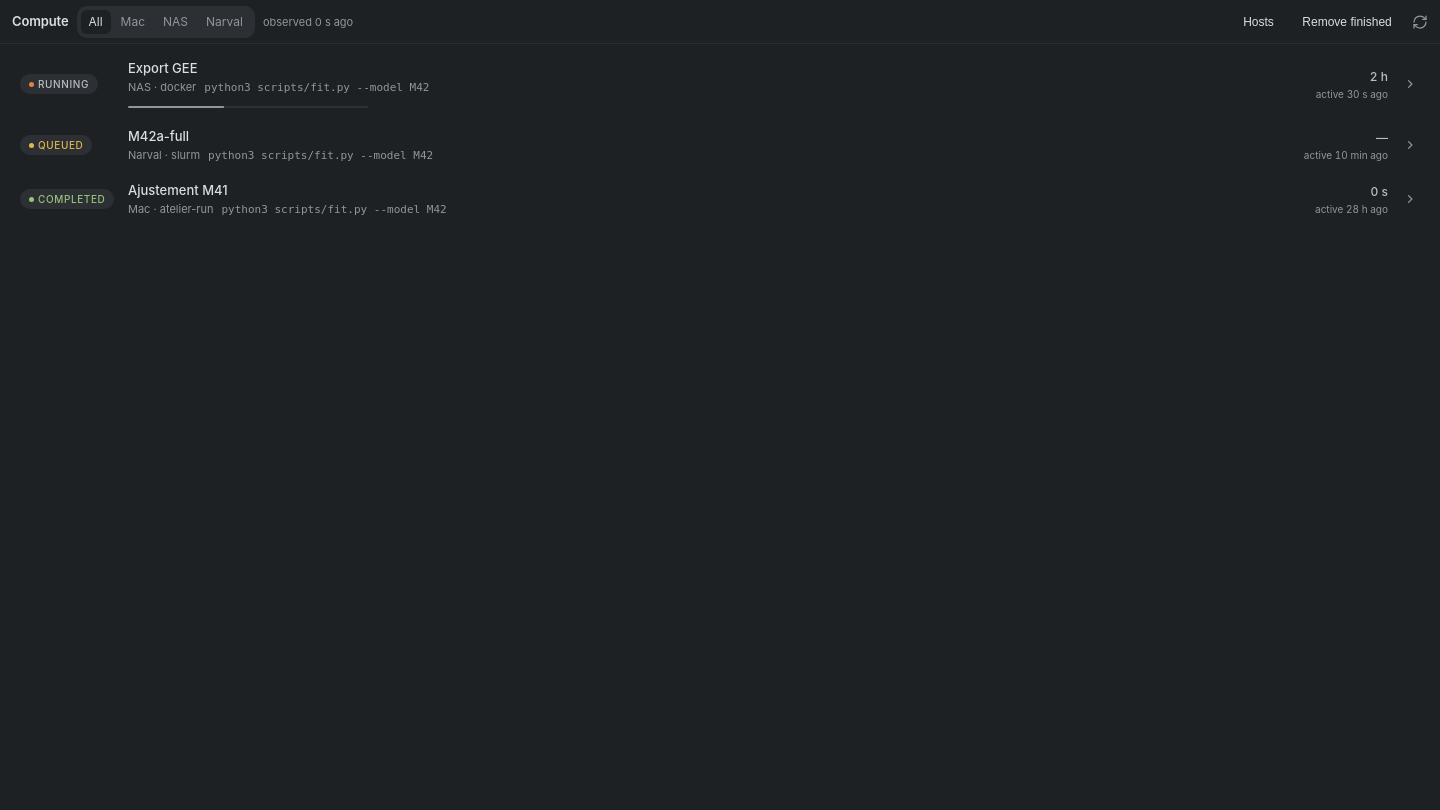
Scenario: CalculsSurface › l'onglet Log demande computeReadLog 400 lignes et affiche le journal
Click the button with class "calculs-run-head" that starts with "running" at (59, 84), box [8, 52, 1432, 116]
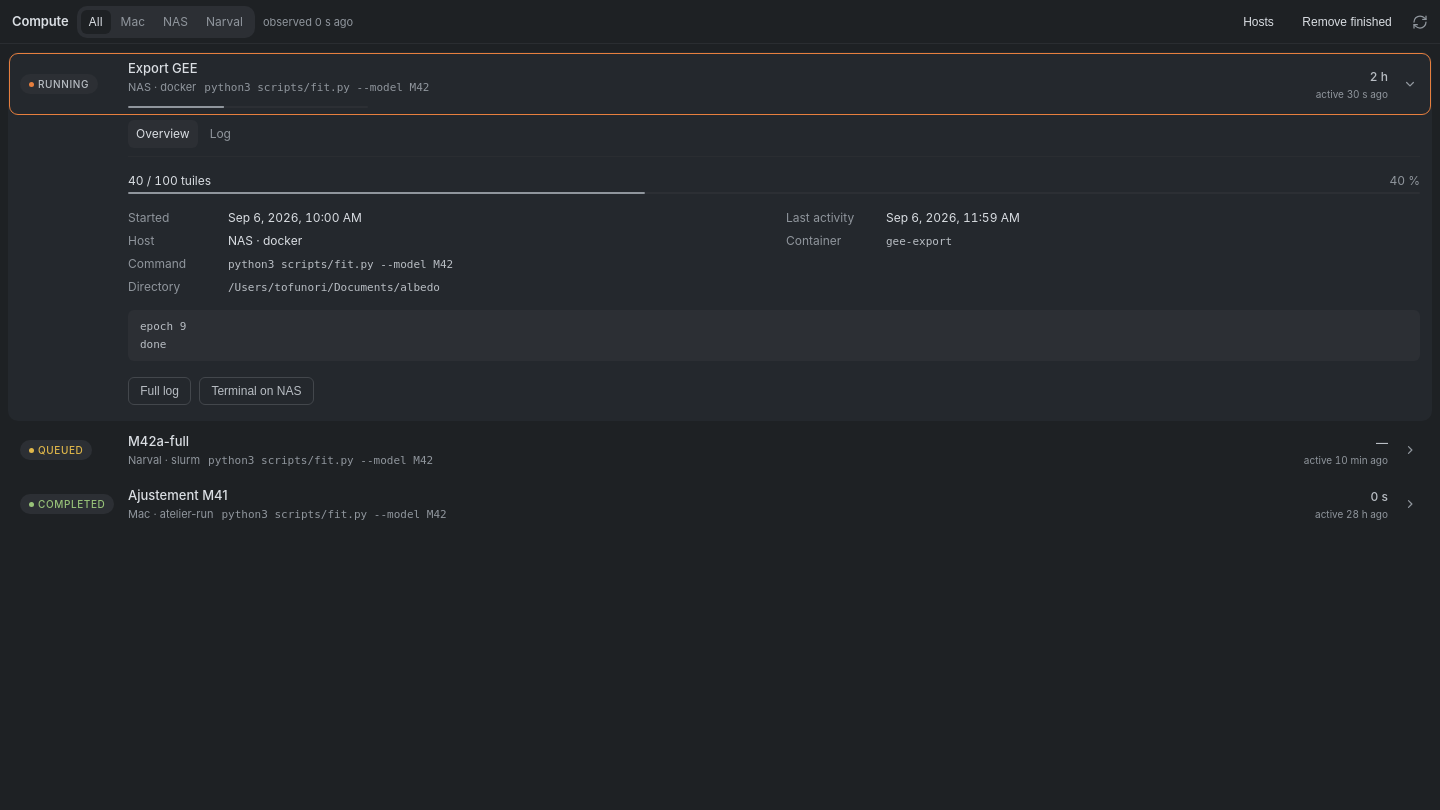
Result: the button with class "calculs-run-head" is expanded at [8, 52, 1432, 116]
Result: the element with class "calculs-run-body" shows "python3 scripts/fit.py" at [228, 258, 453, 271]
Result: the element with class "calculs-run-body" shows "/Users/tofunori/Documents/albedo" at [228, 281, 440, 294]
Click the tab "Log" at (220, 134), box [202, 120, 239, 148]
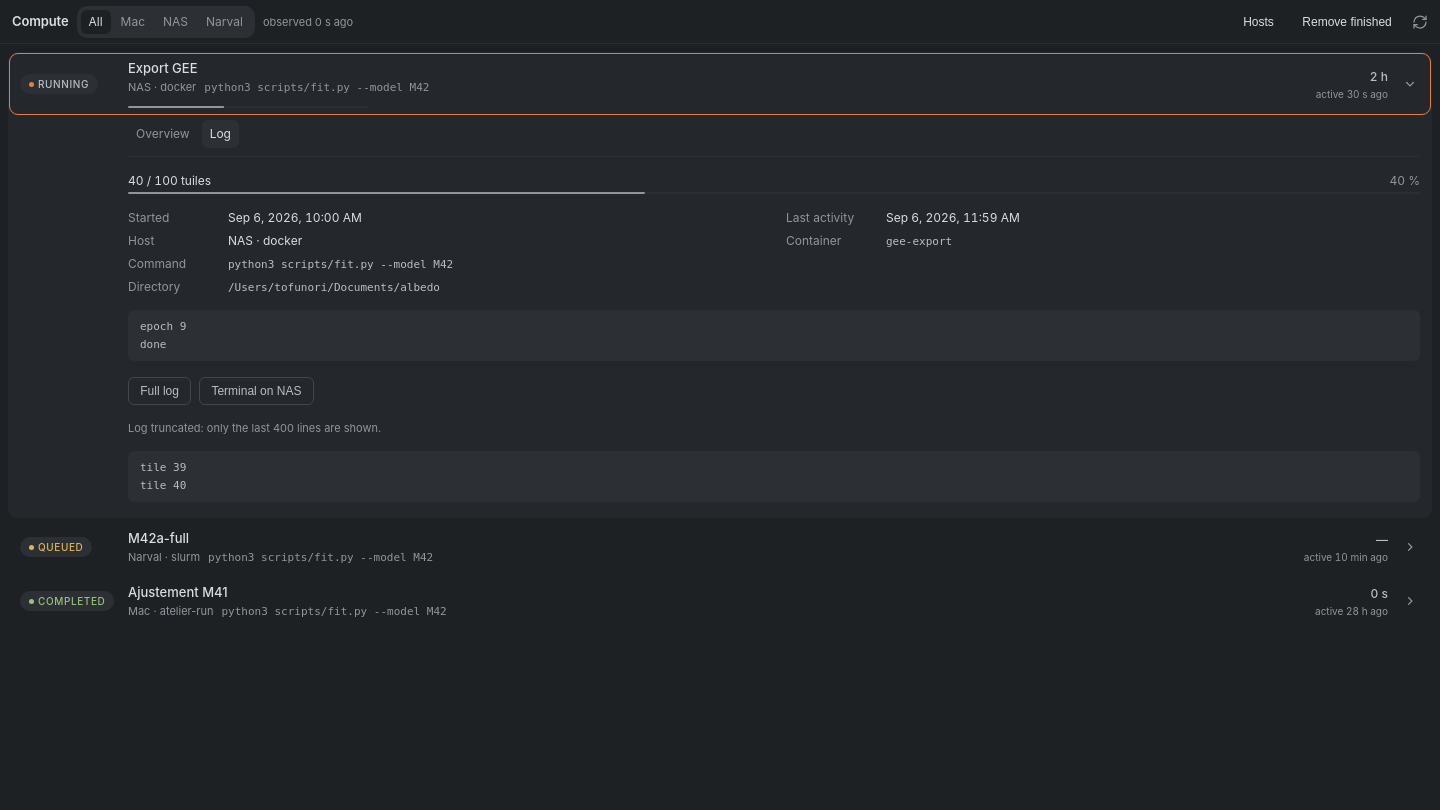
Result: the text "Log truncated: only the last 400 lines are shown." is shown at [128, 421, 381, 435]
Press Escape in the tab "Log", box [202, 120, 239, 148]
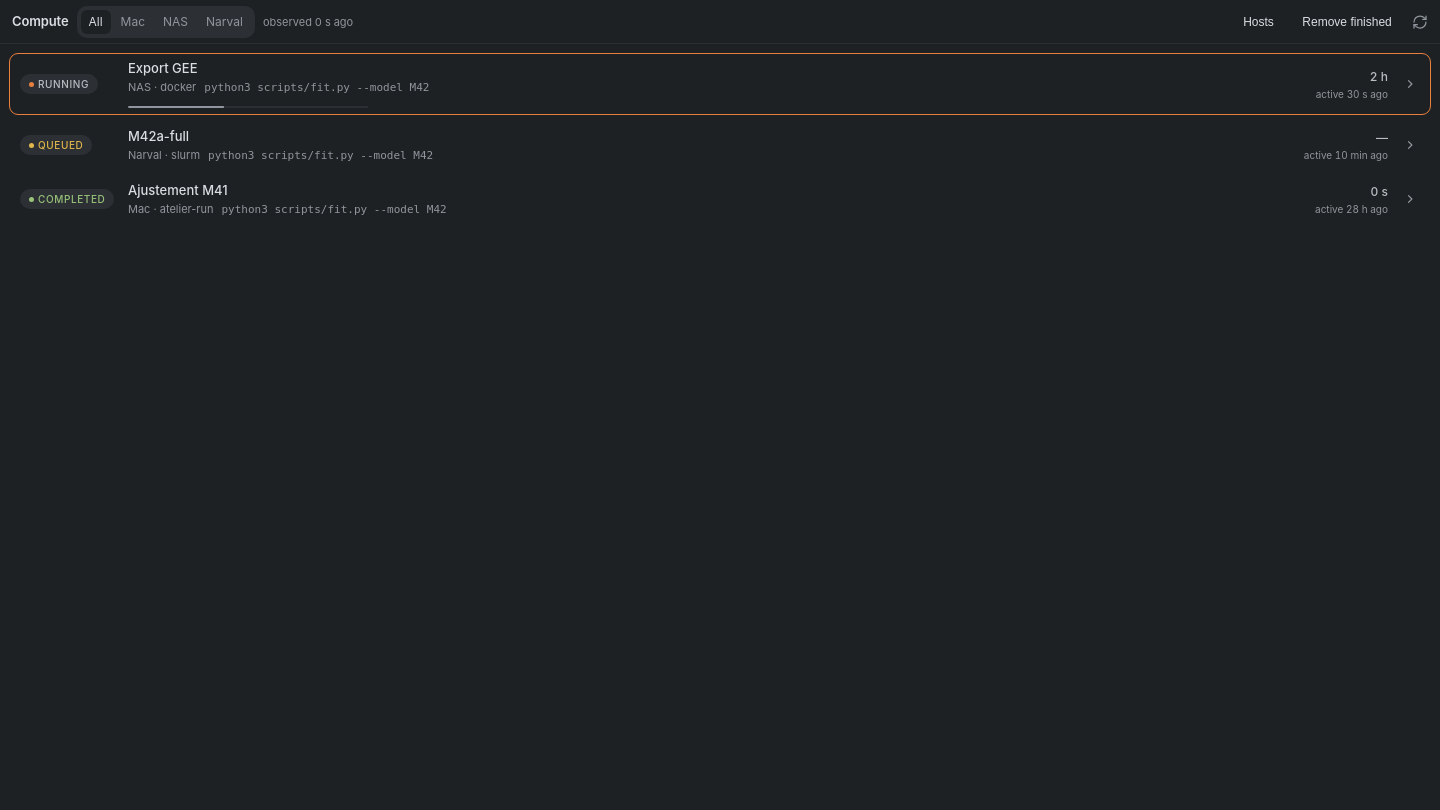
Result: the element with class "calculs-run-body" is gone
